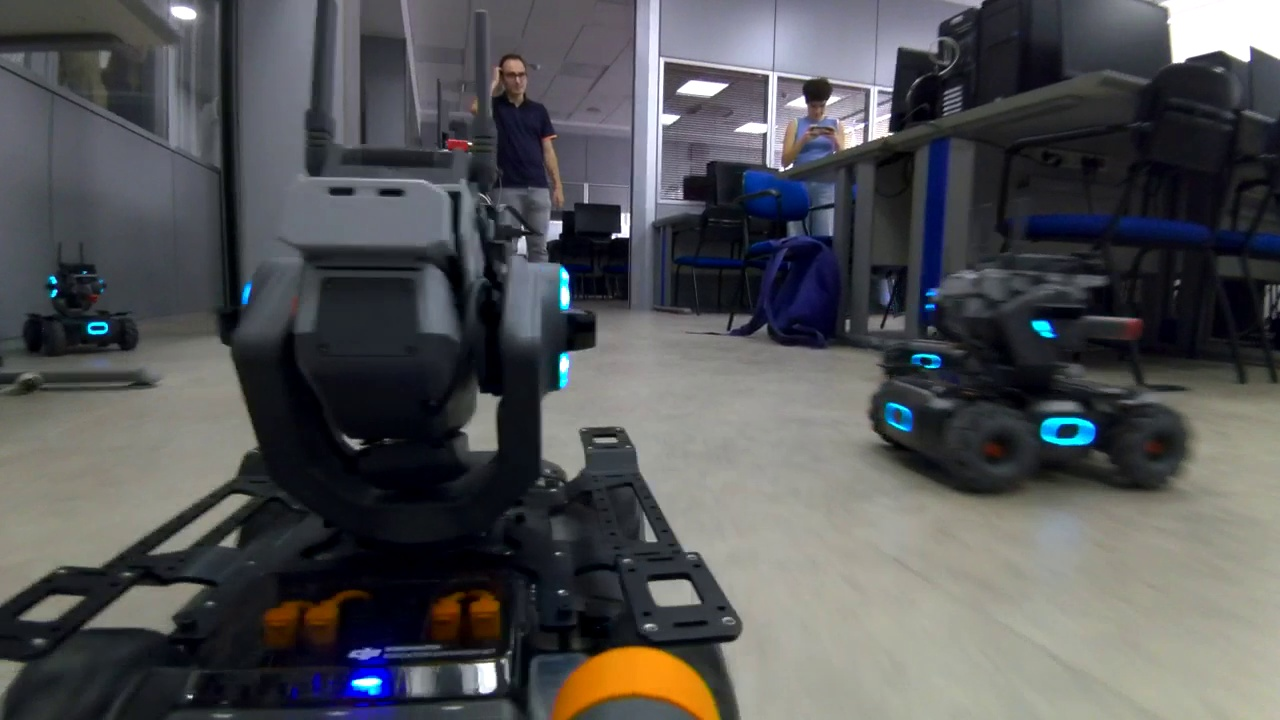robot: (865, 184, 1203, 491), (21, 235, 145, 358)
